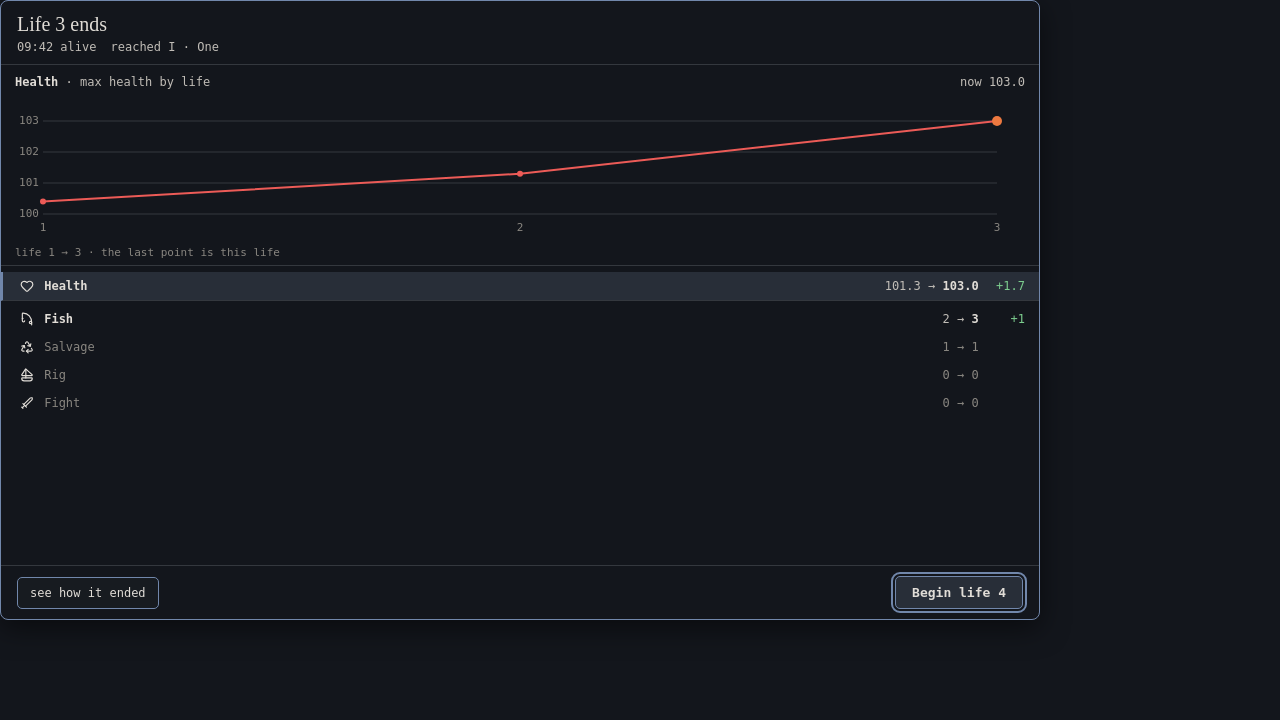
Test: DeathOverlay › a click selects a skill and charts its core level
Step 1. Click the button "Fish 2 → 3 +1" → [27, 319], box x1=1 y1=305 x2=1039 y2=333
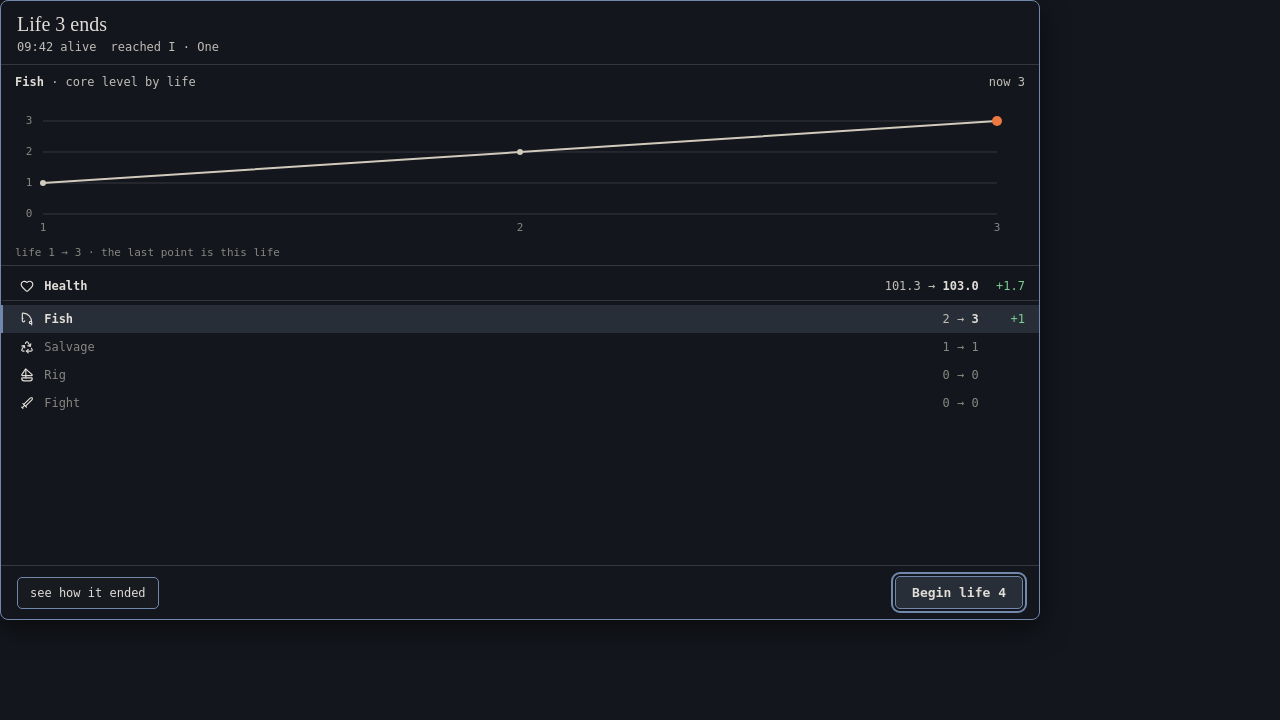
Now the text "now 3" is shown, box x1=989 y1=75 x2=1025 y2=89
